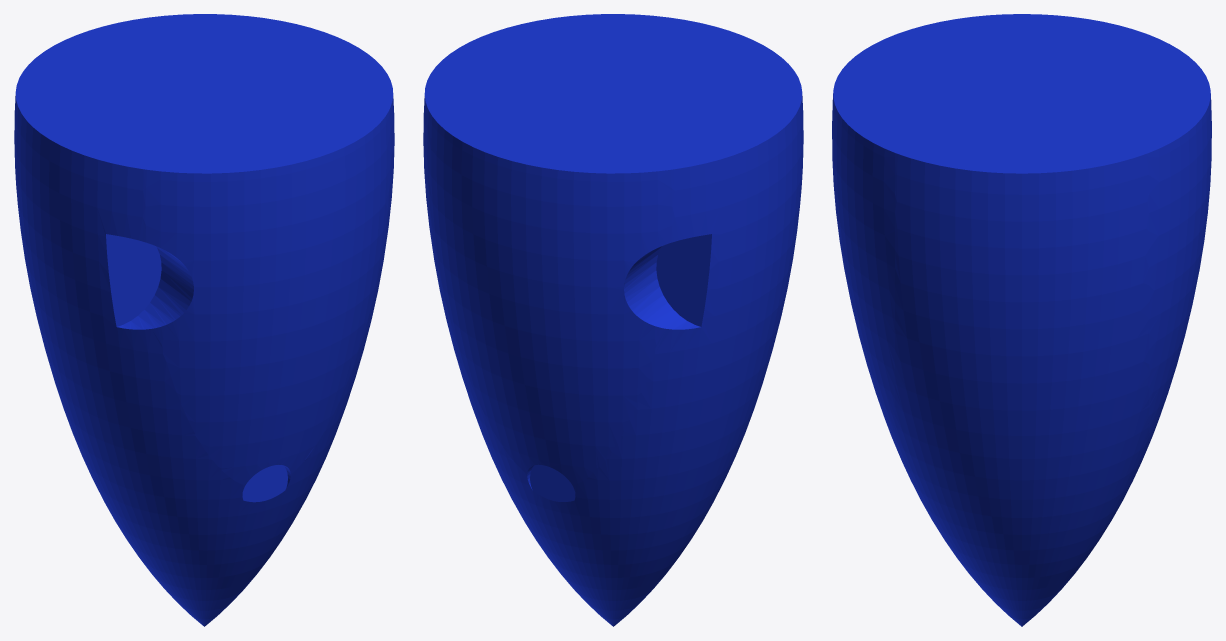
File: NaroBody_1_v3.dae
3 renders of one model, left to right at view 1: azimuth 30°, elevation 25°; view 2: azimuth 150°, elevation 25°; view 3: azimuth 270°, elevation 25°, orthographic.
Parts seen in each view (by area): view 1: NaroBody_1; view 2: NaroBody_1; view 3: NaroBody_1.
Boxes of the visible parts, x1,y1,x2,y2 form: NaroBody_1: (14,14,394,626); NaroBody_1: (423,14,803,626); NaroBody_1: (832,14,1211,626).
Bounding box in the file's own units: 0.1047 × 0.1046 × 0.162.
